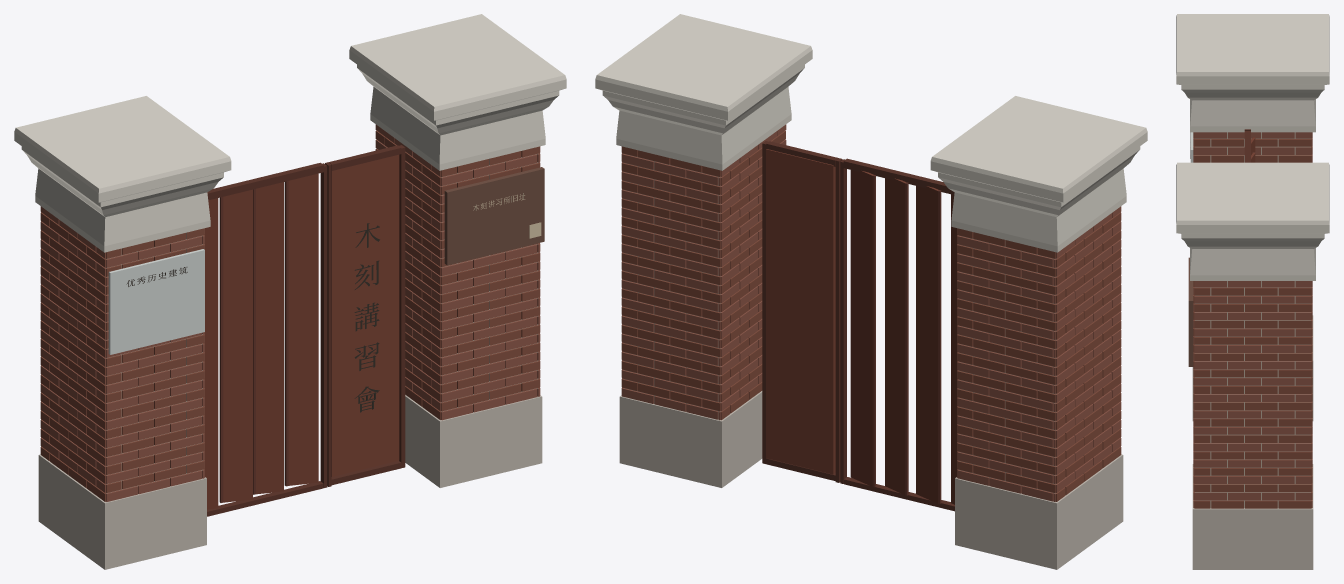
Rendered from hongkou-changchun-319-woodcut-workshop-gate-lod.glb.
The picture shows the model from 3 angles, left to right: view 1: azimuth 30°, elevation 25°; view 2: azimuth 150°, elevation 25°; view 3: azimuth 270°, elevation 25°; orthographic projection. The views are drawn at different scales.
Visible parts, largest first — view 1: 长春路319号木刻讲习会旧址院门; view 2: 长春路319号木刻讲习会旧址院门; view 3: 长春路319号木刻讲习会旧址院门.
Boxes of the visible parts, left/top/right/bottom form: 长春路319号木刻讲习会旧址院门: left=14, top=14, right=566, bottom=569; 长春路319号木刻讲习会旧址院门: left=595, top=14, right=1147, bottom=569; 长春路319号木刻讲习会旧址院门: left=1176, top=14, right=1329, bottom=569.
Size of the model in its own units: 3.48 by 2.78 by 1.09.
